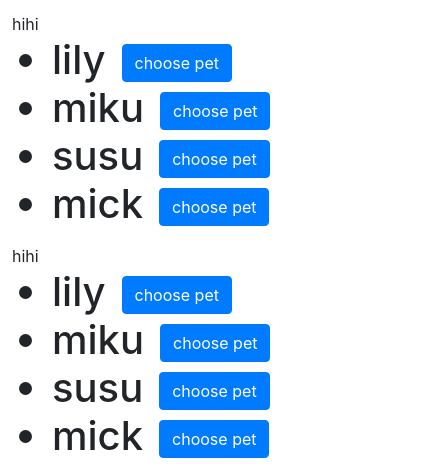
Scenario: <ListPet /> component › should render when click
Click the 5th button "choose pet". click: (177, 295)
box: 122,276 -> 232,314
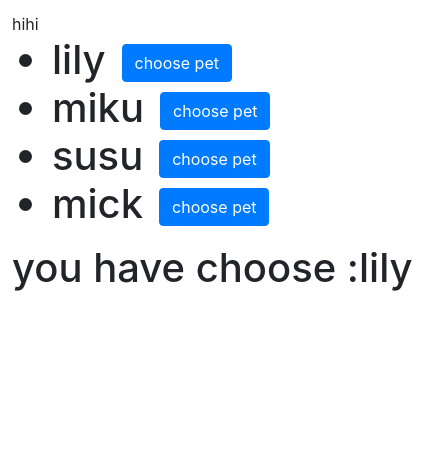
Expected: the heading "you have choose :lily" is shown, 12,243 -> 412,292
